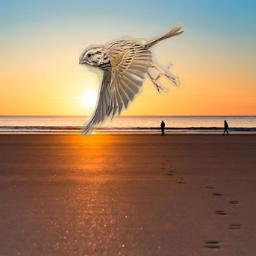Sparrow: (79, 17, 188, 137)
